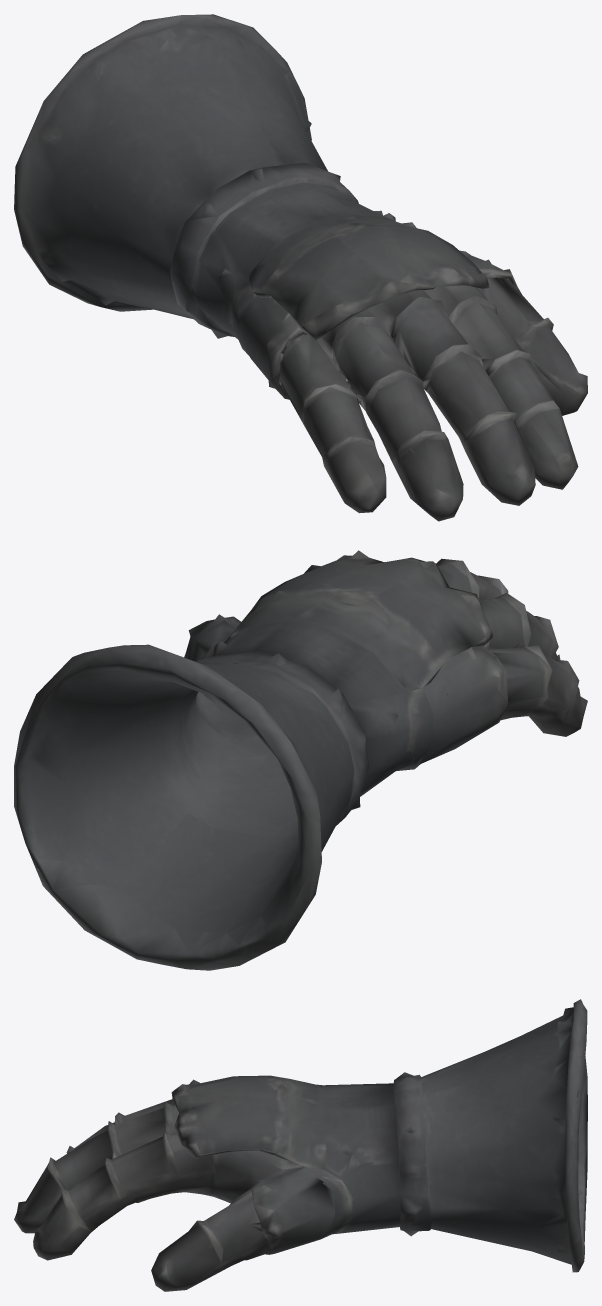
File: gauntlet-v1-prepped.glb
The picture shows the model from 3 angles, top to bottom: view 1: azimuth 30°, elevation 25°; view 2: azimuth 150°, elevation 25°; view 3: azimuth 270°, elevation 25°; orthographic projection. The views are drawn at different scales.
Parts seen in each view (by area): view 1: gauntlet; view 2: gauntlet; view 3: gauntlet.
Part boxes in pixels (x1=…): gauntlet: x1=14, y1=14, x2=587, y2=521; gauntlet: x1=14, y1=550, x2=587, y2=970; gauntlet: x1=14, y1=999, x2=587, y2=1291.
Bounding box in the file's own units: 0.5466 × 0.4683 × 1.01.
1 material, 1 textured.
